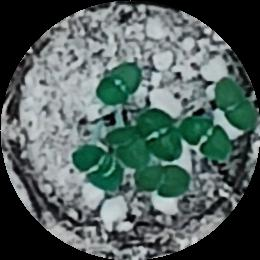Basil: (134, 111, 184, 160), (216, 79, 260, 131), (137, 160, 190, 201), (183, 115, 232, 159), (93, 62, 141, 106), (74, 147, 124, 188), (110, 128, 148, 169)
